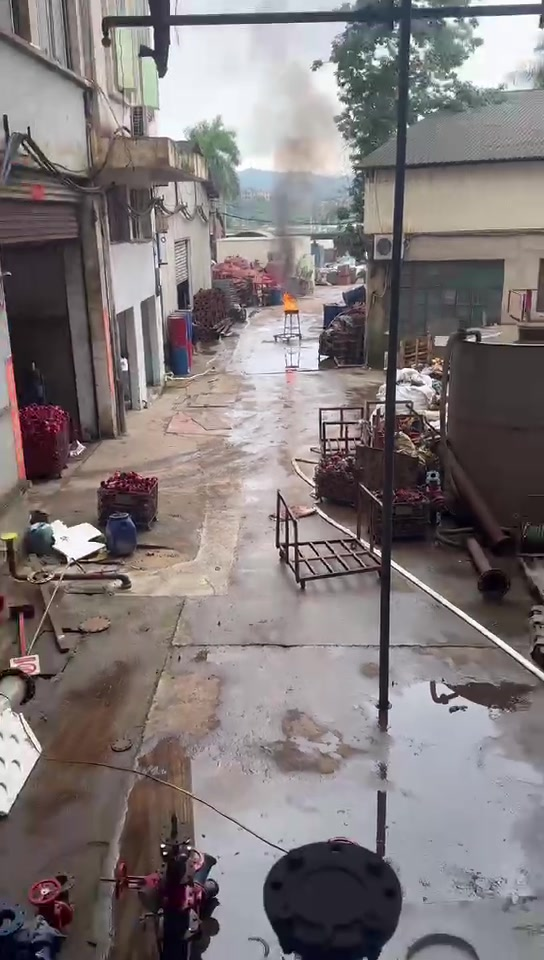fire: (281, 293, 298, 310)
